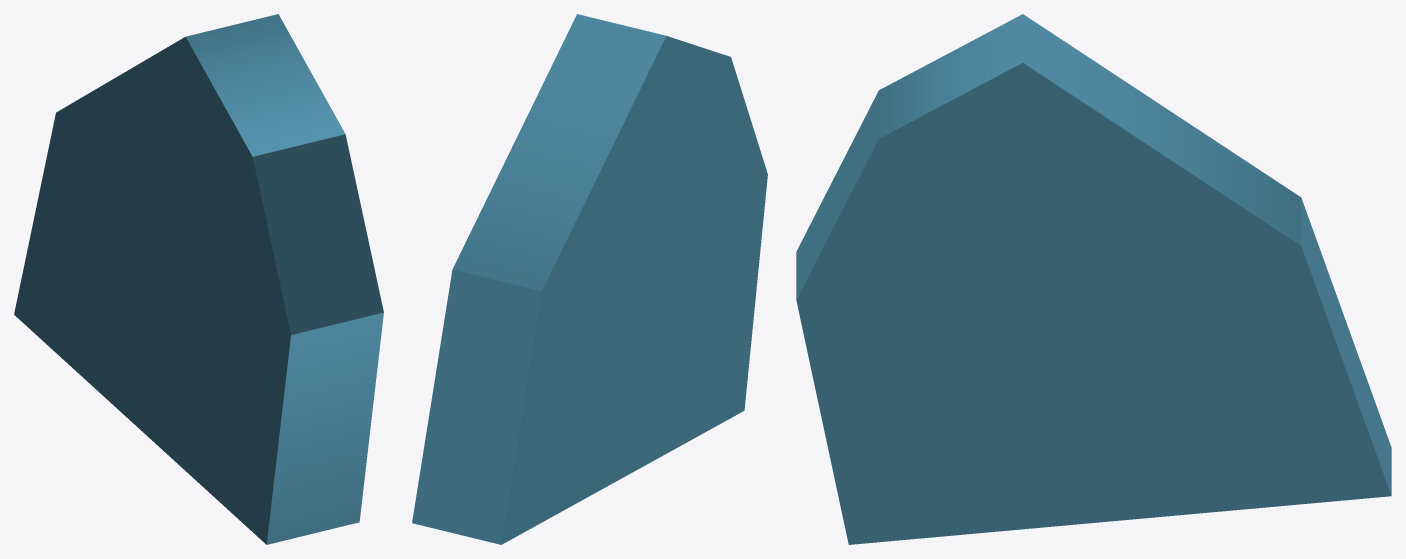
File: NexusC_Trigger_12.fbx
3 renders of one model, left to right at view 1: azimuth 30°, elevation 25°; view 2: azimuth 150°, elevation 25°; view 3: azimuth 270°, elevation 25°, orthographic. The views are drawn at different scales.
Visible parts, largest first — view 1: polySurface50; view 2: polySurface50; view 3: polySurface50.
Part boxes in pixels (x1,y1,x2,y2): polySurface50: (14, 14, 383, 544); polySurface50: (412, 14, 767, 544); polySurface50: (796, 14, 1391, 544).
Size of the model in its own units: 9.22 by 42.56 by 47.6.
